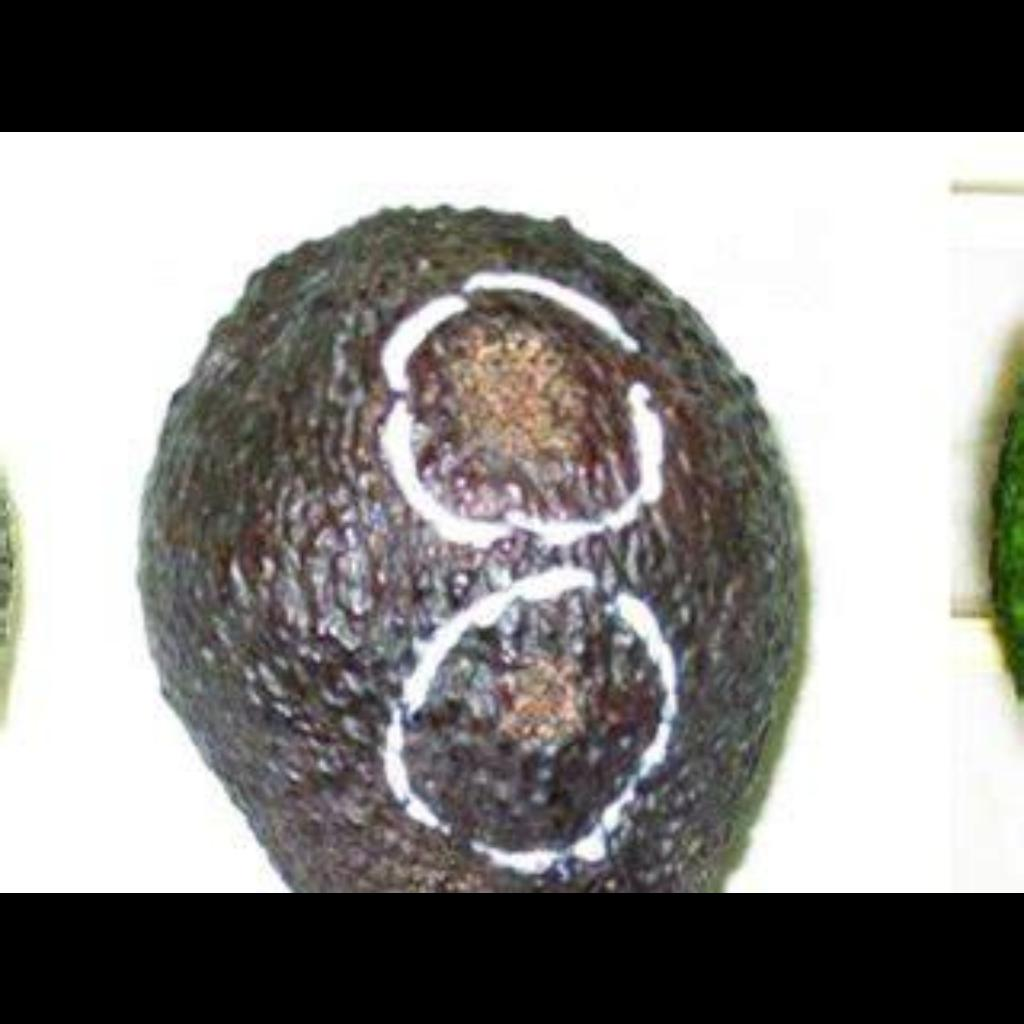antracnosis_fruto: (140, 231, 824, 868)
